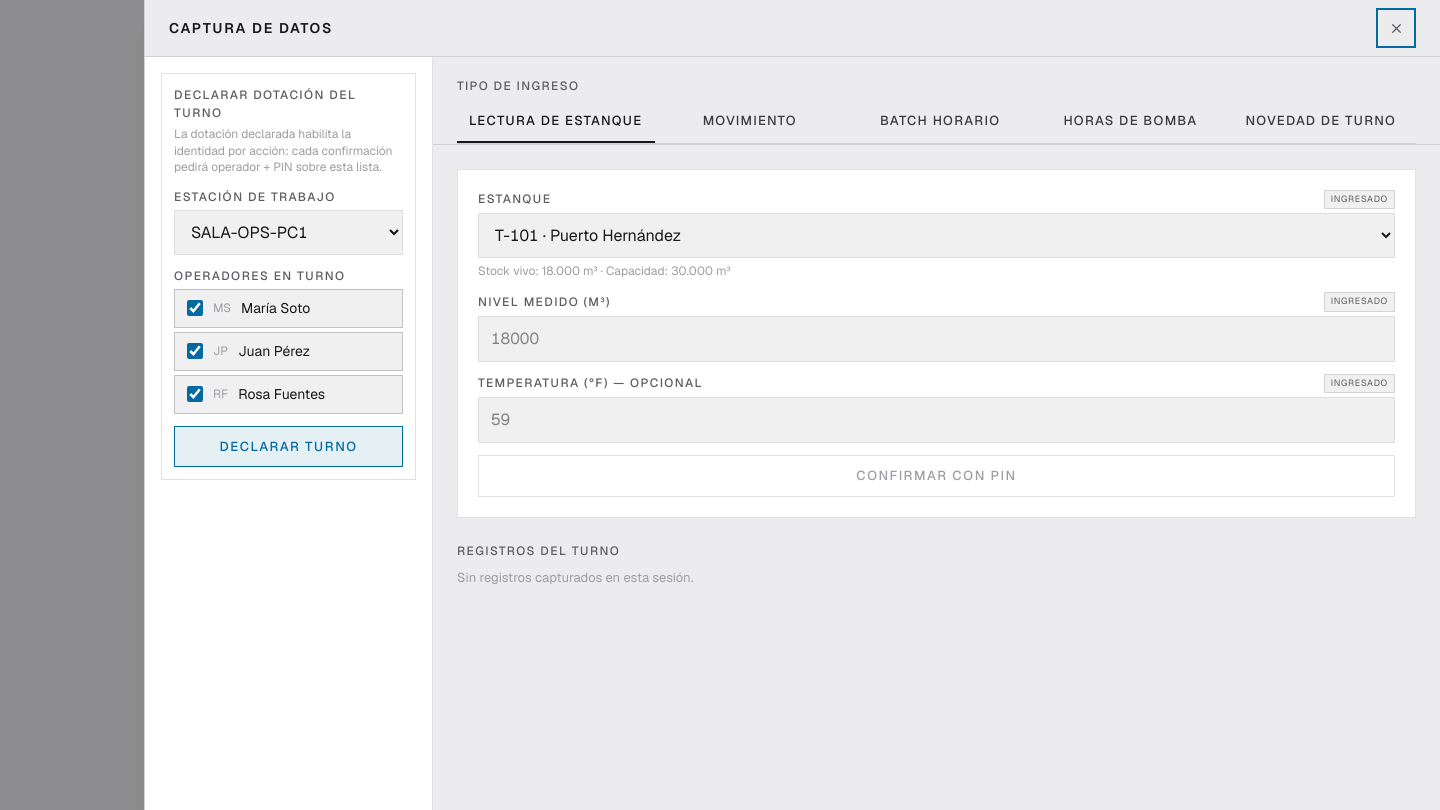
Test case: CaptureDrawer › switches the hosted form with the type selector
Click the tab "Novedad de turno".
click(1321, 122)  # box [1226,101,1416,142]
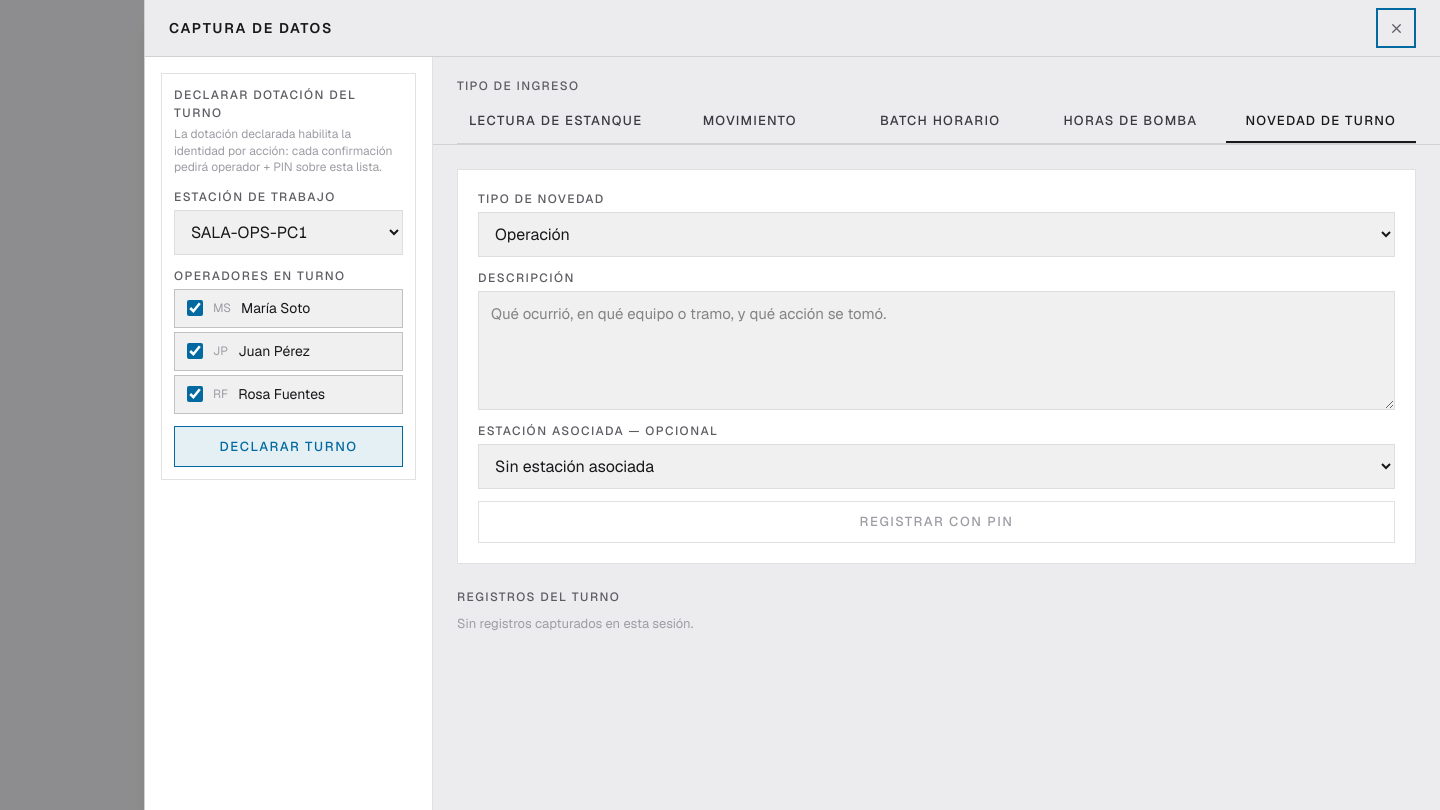
Expected: the text box labelled "Descripción" is shown, [478,290,1395,410]
Click the tab "Movimiento".
click(750, 122)  # box [654,101,845,142]
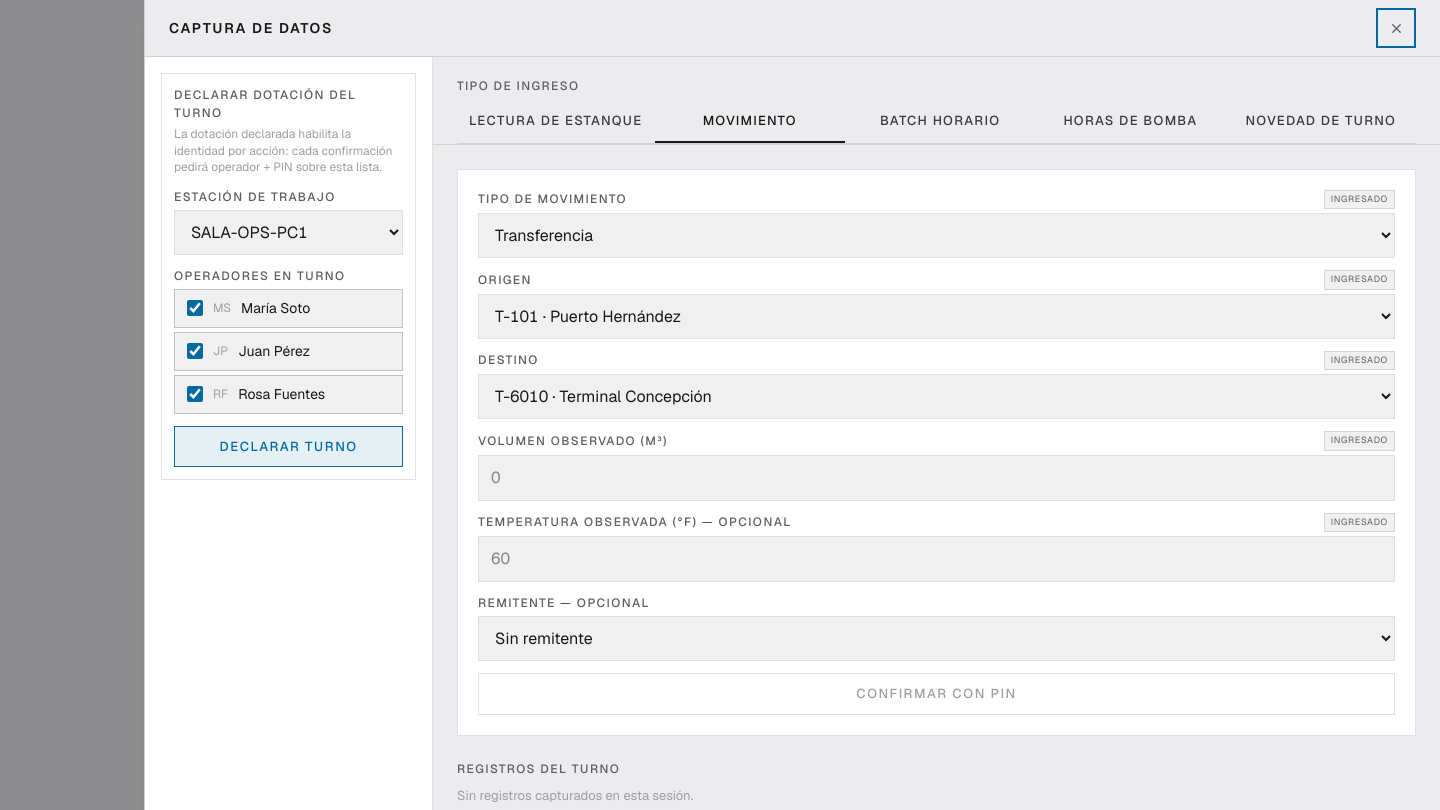
Expected: the field labelled "Volumen observado (m³)" is shown, [478,454,1395,500]
Click the tab "Horas de bomba".
click(1130, 122)  # box [1035,101,1226,142]
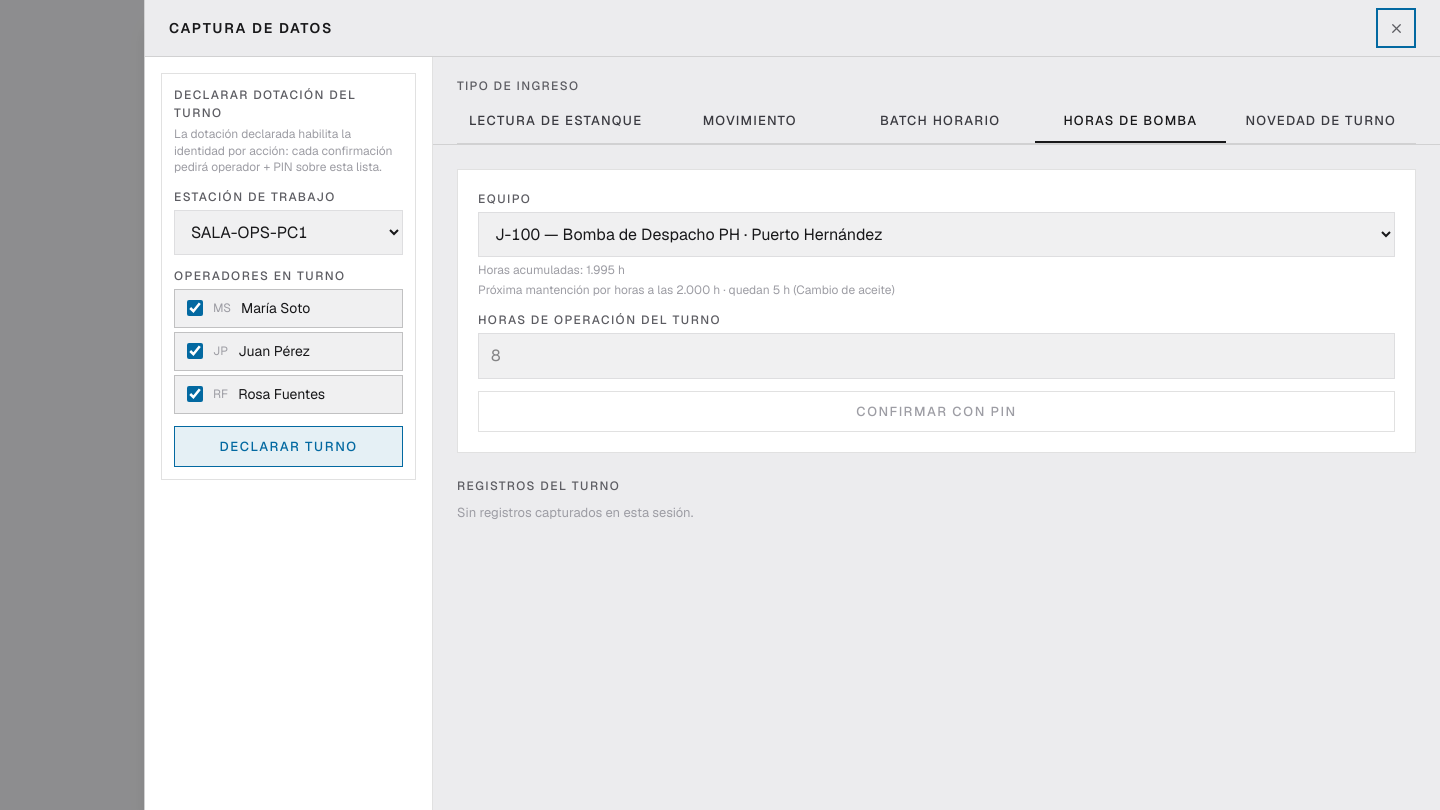
Expected: the number field labelled "Horas de operación del turno" is shown, [478,332,1395,378]
Click the tab "Batch horario".
click(940, 122)  # box [845,101,1035,142]
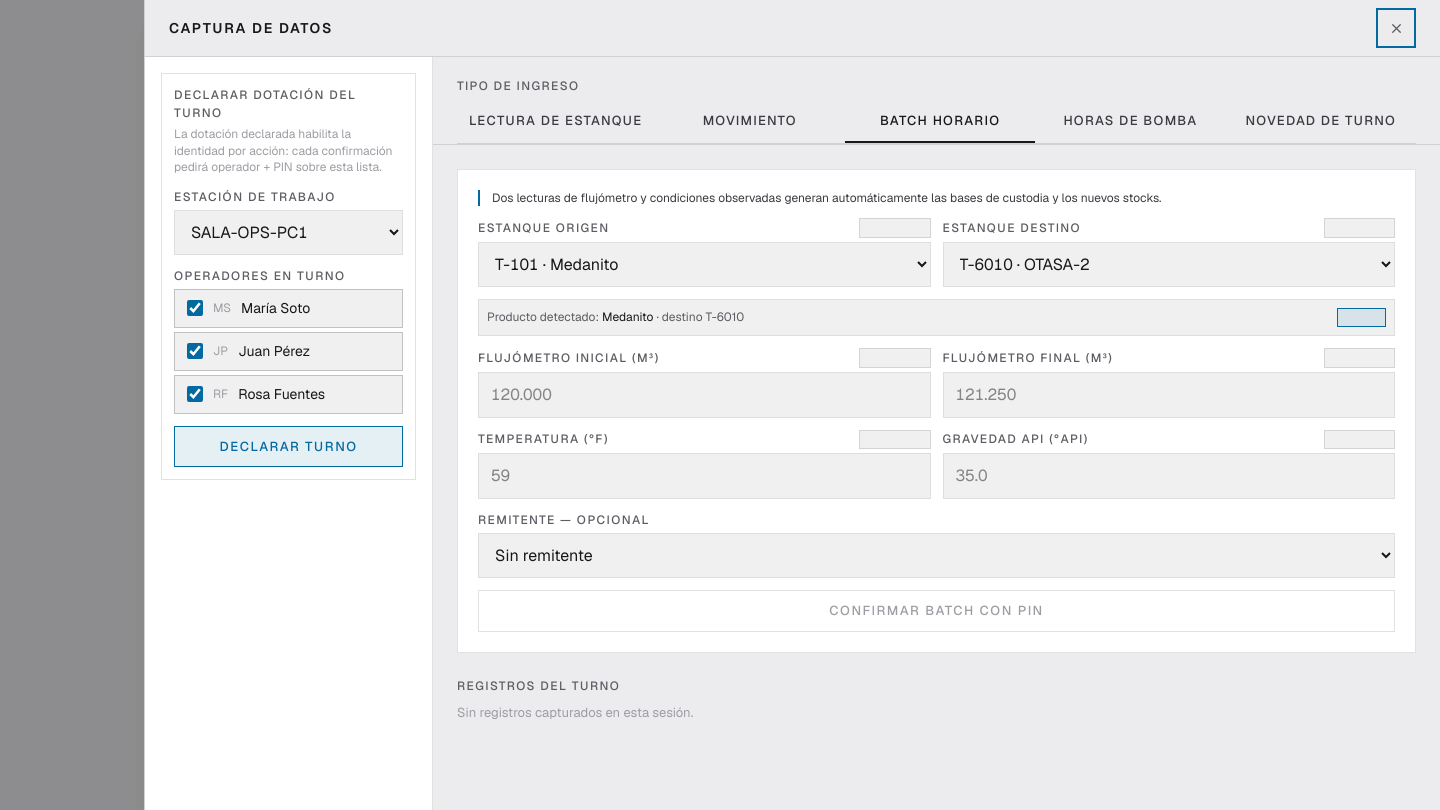
Expected: the field labelled "Flujómetro inicial (m³)" is shown, [478,372,930,418]
